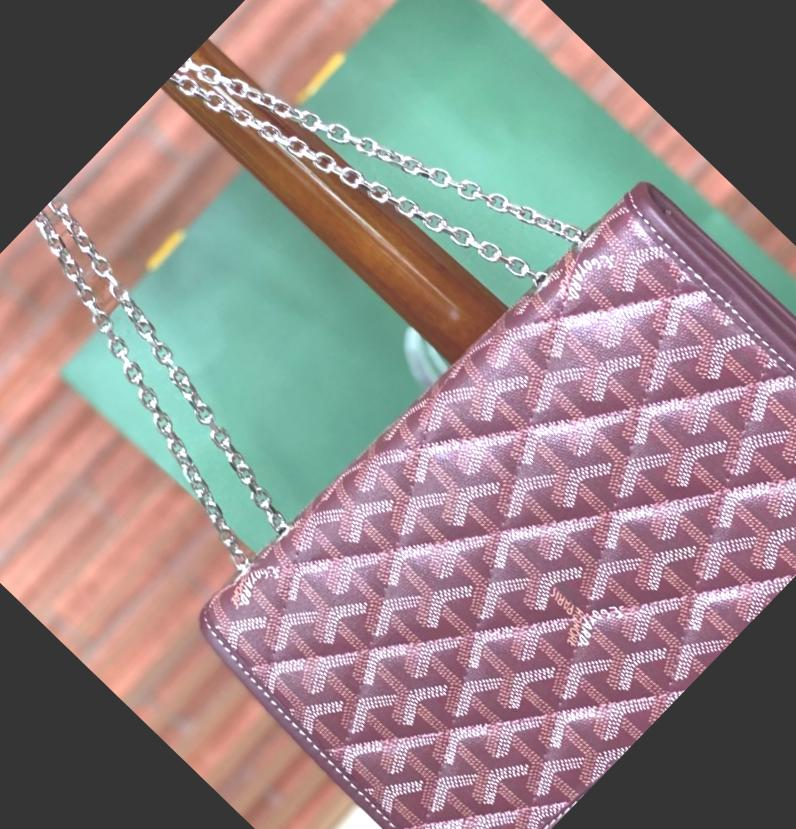GOYARD: (185, 182, 796, 829)
